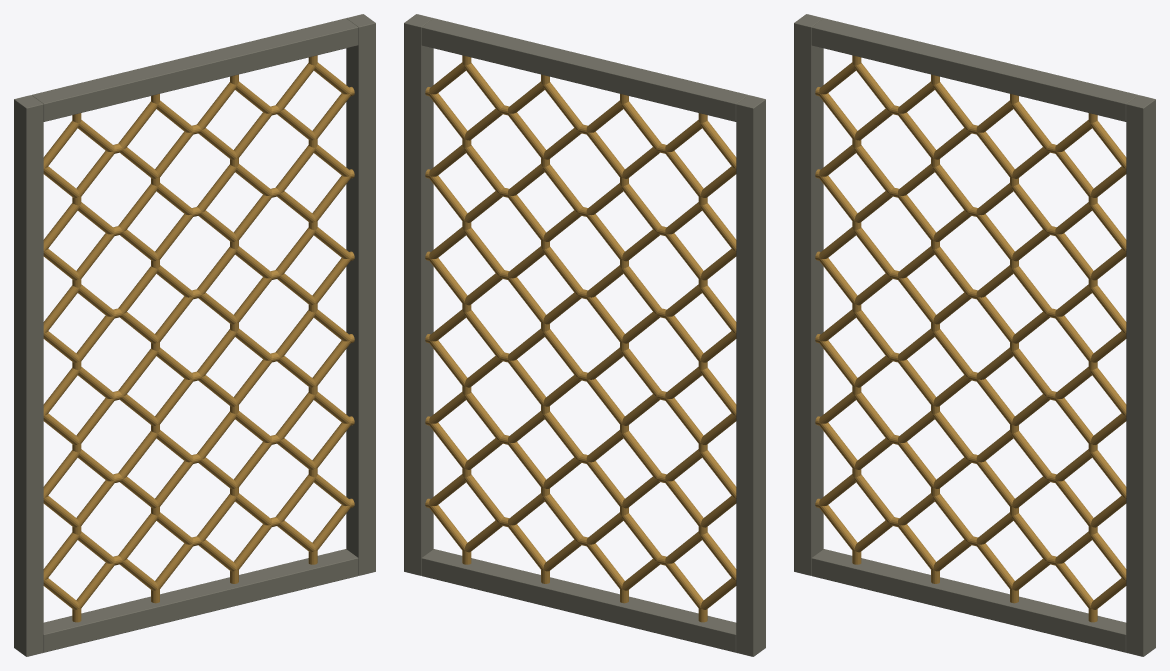
File: mosque-geometric-screen.glb
3 renders of one model, left to right at view 1: azimuth 30°, elevation 25°; view 2: azimuth 150°, elevation 25°; view 3: azimuth 330°, elevation 25°, orthographic.
Parts seen in each view (by area): view 1: Side_Frame, Side_Frame.001, Frame_Rail.001, Frame_Rail, Diamond.024, Diamond.028, Diamond.068, Diamond.048, Diamond.060, Diamond.080, Diamond.084, Diamond.036 (+10 smaller); view 2: Side_Frame, Side_Frame.001, Frame_Rail.001, Frame_Rail, Diamond.024, Diamond.028, Diamond.068, Diamond.048, Diamond.060, Diamond.080, Diamond.084, Diamond.036 (+10 smaller); view 3: Side_Frame.001, Side_Frame, Frame_Rail.001, Frame_Rail, Diamond.045, Diamond.049, Diamond.053, Diamond.009, Diamond.013, Diamond.025, Diamond.037, Diamond.001 (+10 smaller).
Part boxes in pixels (x1,y1,x2,y2): Side_Frame: [14, 95, 43, 656]; Side_Frame.001: [346, 14, 375, 575]; Frame_Rail.001: [32, 18, 358, 121]; Frame_Rail: [43, 549, 358, 652]; Diamond.024: [118, 513, 157, 560]; Diamond.028: [118, 431, 157, 478]; Diamond.068: [197, 82, 236, 129]; Diamond.048: [197, 494, 236, 541]; Diamond.060: [197, 247, 236, 294]; Diamond.080: [276, 310, 315, 357]; Diamond.084: [276, 227, 315, 275]; Diamond.036: [118, 266, 157, 313]; Side_Frame: [736, 95, 765, 656]; Side_Frame.001: [404, 14, 433, 575]; Frame_Rail.001: [421, 18, 747, 121]; Frame_Rail: [421, 549, 736, 652]; Diamond.024: [622, 513, 661, 560]; Diamond.028: [622, 431, 661, 478]; Diamond.068: [543, 82, 582, 129]; Diamond.048: [543, 494, 582, 541]; Diamond.060: [543, 247, 582, 294]; Diamond.080: [464, 310, 503, 357]; Diamond.084: [464, 227, 503, 275]; Diamond.036: [622, 266, 661, 313]; Side_Frame.001: [1126, 95, 1155, 656]; Side_Frame: [794, 14, 823, 575]; Frame_Rail.001: [811, 18, 1137, 121]; Frame_Rail: [811, 549, 1126, 652]; Diamond.045: [933, 82, 972, 129]; Diamond.049: [1012, 513, 1051, 560]; Diamond.053: [1012, 431, 1051, 478]; Diamond.009: [854, 310, 893, 357]; Diamond.013: [854, 227, 893, 275]; Diamond.025: [933, 494, 972, 541]; Diamond.037: [933, 247, 972, 294]; Diamond.001: [854, 474, 893, 522].
Bounding box in the file's own units: 1.6 × 2.4 × 0.1.
